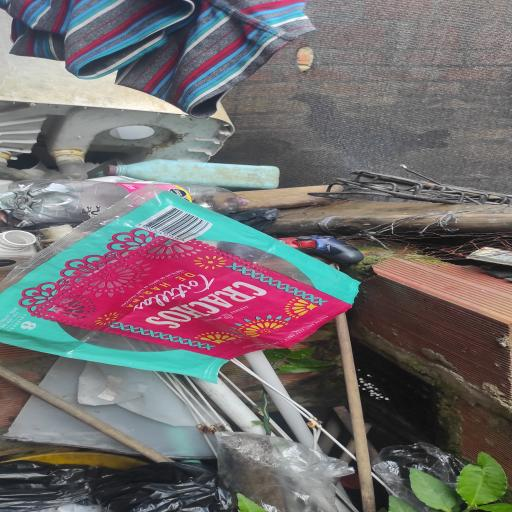ControlPlay4: (277, 235, 364, 264)
